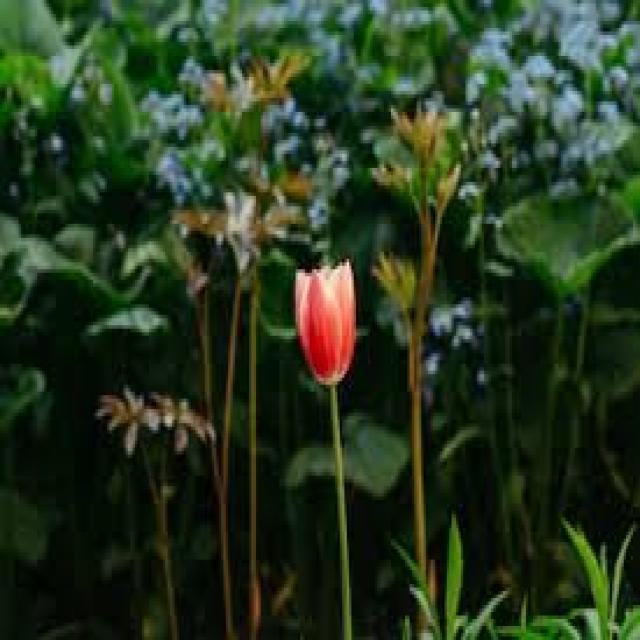Bloomed: (291, 255, 358, 388)
